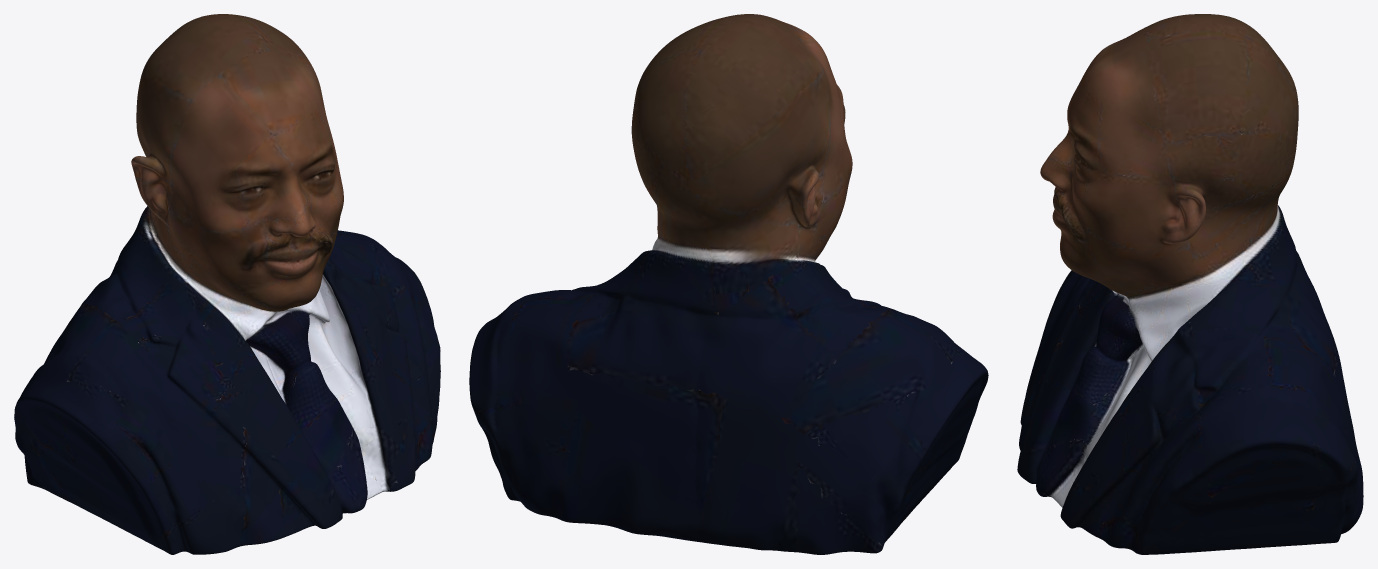
File: joseph_kabila_face_optimized.glb
The picture shows the model from 3 angles, left to right: view 1: azimuth 30°, elevation 25°; view 2: azimuth 150°, elevation 25°; view 3: azimuth 270°, elevation 25°; orthographic projection. The views are drawn at different scales.
Size of the model in its own units: 1.86 by 1.9 by 1.33.
1 material, 1 textured.
